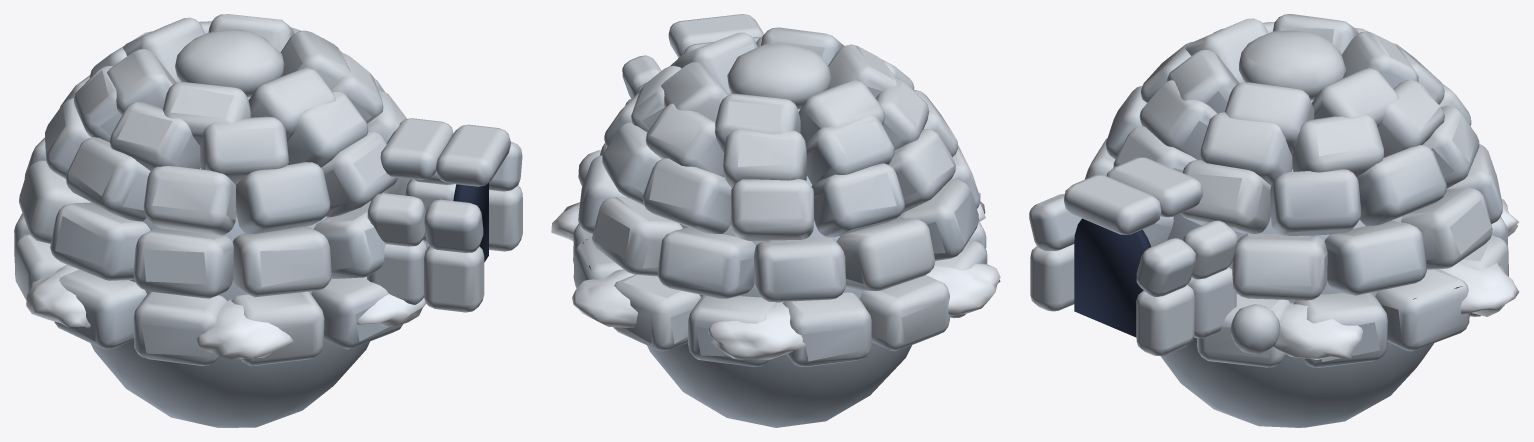
The model's file is igloo.glb.
3 renders of one model, left to right at view 1: azimuth 30°, elevation 25°; view 2: azimuth 150°, elevation 25°; view 3: azimuth 270°, elevation 25°, orthographic. The views are drawn at different scales.
Visible parts, largest first — view 1: iball; view 2: iball; view 3: iball.
Boxes of the visible parts, x1,y1,x2,y2 form: iball: (14,14,522,427); iball: (551,14,1000,427); iball: (1029,14,1518,427).
Bounding box in the file's own units: 2.22 × 1.83 × 2.16.
Materials: 1 (1 with a texture image).
